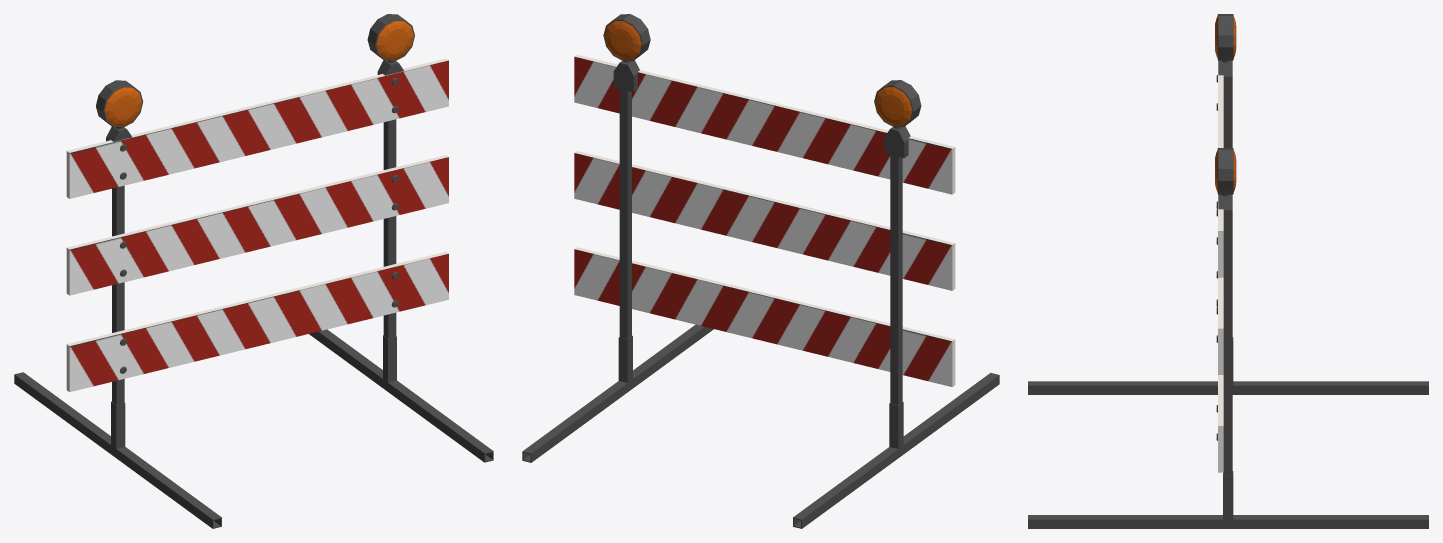
Rendered from LP_Road Barrier_04.fbx.
3 views of the same model, side by side, from view 1: azimuth 30°, elevation 25°; view 2: azimuth 150°, elevation 25°; view 3: azimuth 270°, elevation 25° (orthographic).
Parts seen in each view (by area): view 1: LP_Road Barrier_04, bicycle parking; view 2: LP_Road Barrier_04, bicycle parking; view 3: LP_Road Barrier_04, bicycle parking.
Part boxes in pixels (x1,y1,x2,y2): LP_Road Barrier_04: (14, 58, 493, 528); bicycle parking: (96, 14, 414, 141); LP_Road Barrier_04: (522, 54, 999, 528); bicycle parking: (603, 14, 921, 158); LP_Road Barrier_04: (1028, 61, 1428, 528); bicycle parking: (1215, 14, 1236, 226).
Bounding box in the file's own units: 1.76 × 1.65 × 1.59.
